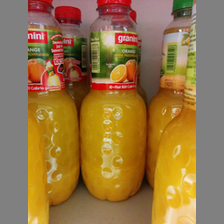juice: (79, 1, 148, 201), (28, 1, 81, 204), (146, 1, 195, 186)
